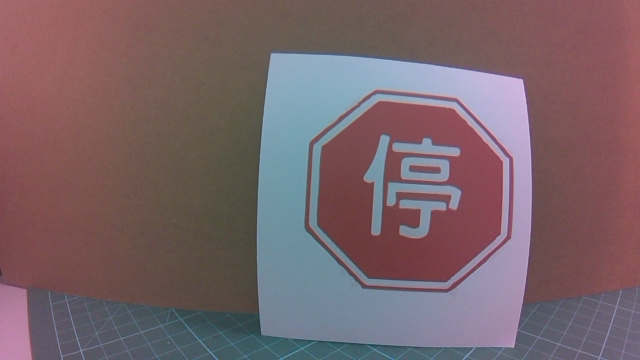stop: (310, 98, 496, 304)
